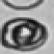correct: (2, 17, 49, 52)
